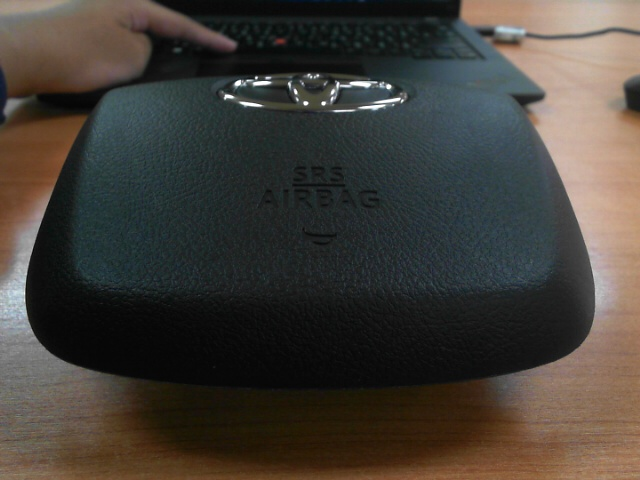Airbag: (22, 74, 596, 394)
